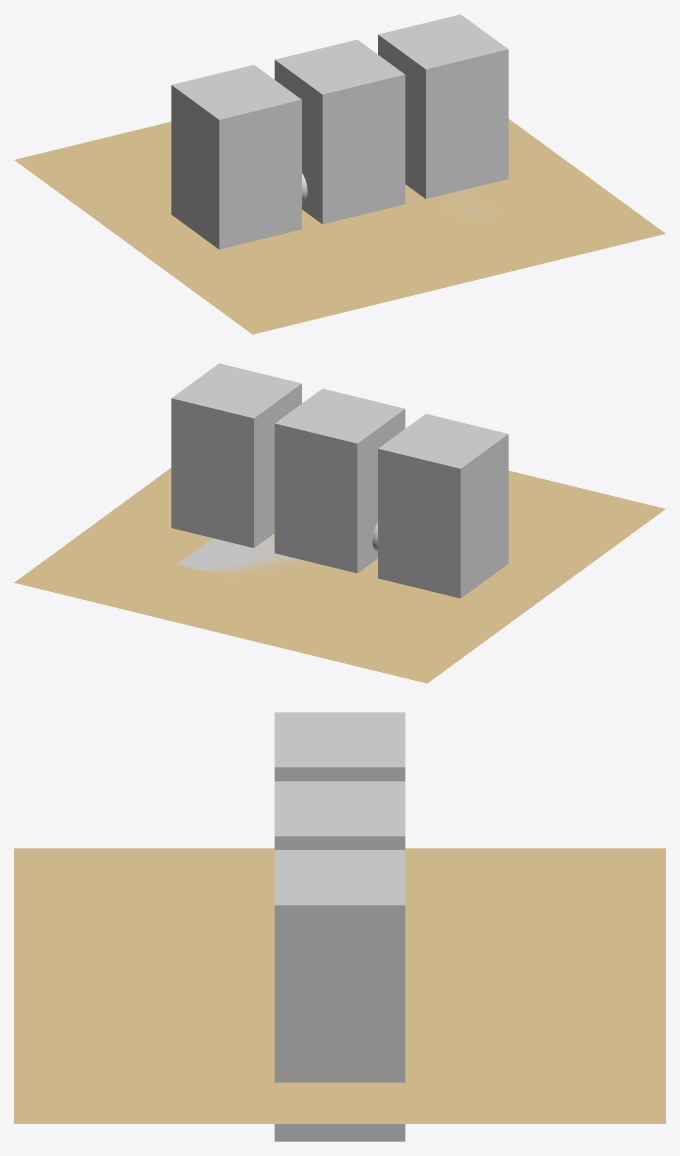
3 views of the same model, one above another, from view 1: azimuth 30°, elevation 25°; view 2: azimuth 150°, elevation 25°; view 3: azimuth 270°, elevation 25° (orthographic). The views are drawn at different scales.
Visible parts, largest first — view 1: Plane, Cube, Cube.002, Cube.001; view 2: Plane, Cube, Cube.002, Cube.001, Oasis Plane; view 3: Plane, Cube.002, Cube, Cube.001.
Part boxes in pixels (bbox=[...]): Plane: bbox=[14, 119, 665, 334]; Cube: bbox=[171, 65, 301, 249]; Cube.002: bbox=[378, 14, 508, 198]; Cube.001: bbox=[274, 39, 405, 224]; Plane: bbox=[14, 468, 665, 683]; Cube: bbox=[378, 414, 508, 598]; Cube.002: bbox=[171, 363, 301, 547]; Cube.001: bbox=[274, 388, 405, 573]; Oasis Plane: bbox=[177, 534, 311, 579]; Plane: bbox=[14, 848, 665, 1123]; Cube.002: bbox=[274, 850, 405, 1141]; Cube: bbox=[274, 712, 405, 781]; Cube.001: bbox=[274, 781, 405, 849].
Size of the model in its own units: 20 by 8 by 20.
